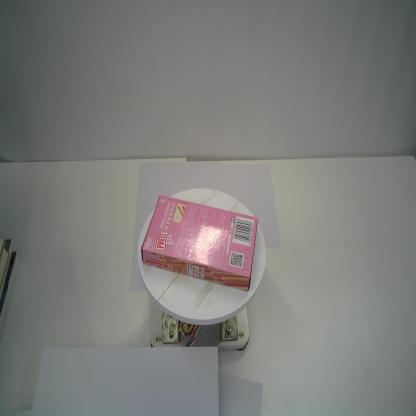Dessert: (140, 194, 259, 295)
